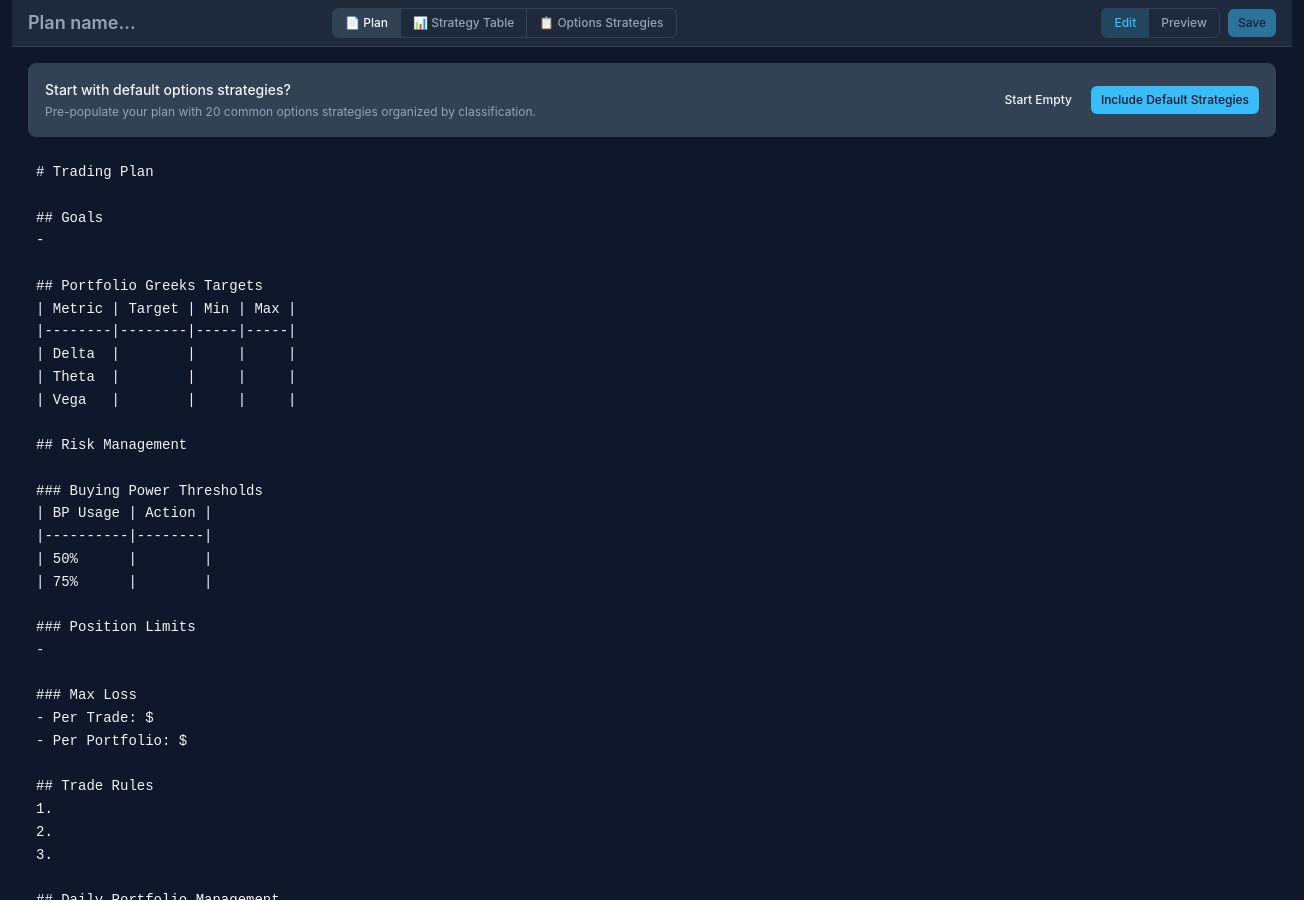
Test case: PlanEditor › switches to strategy table when clicking the Strategy Table tab
The image size is (1304, 900).
Click the button "📊 Strategy Table": (463, 23) [400,9,526,37]
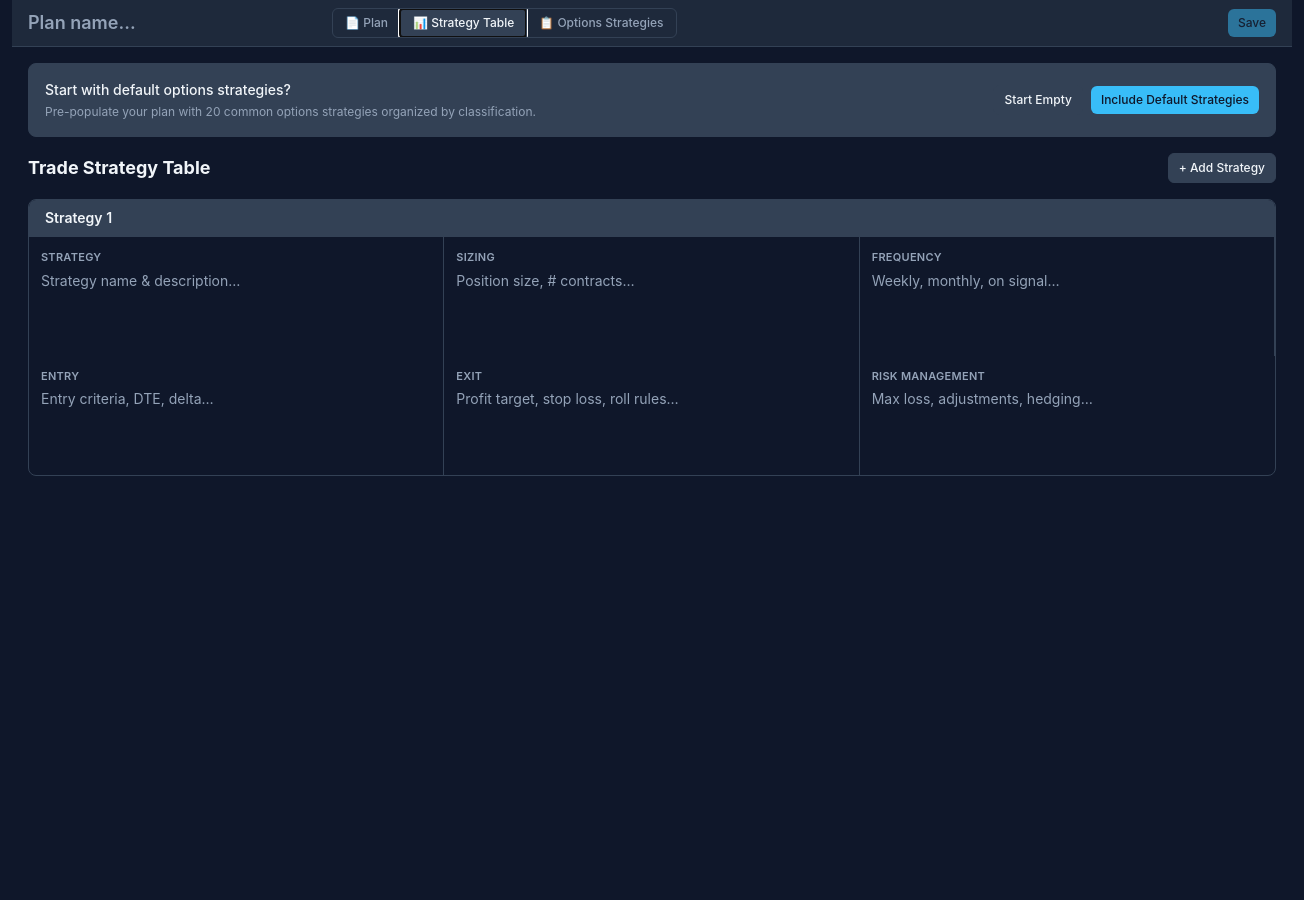
Now the heading "Trade Strategy Table" is shown, box [28,154,210,182]
